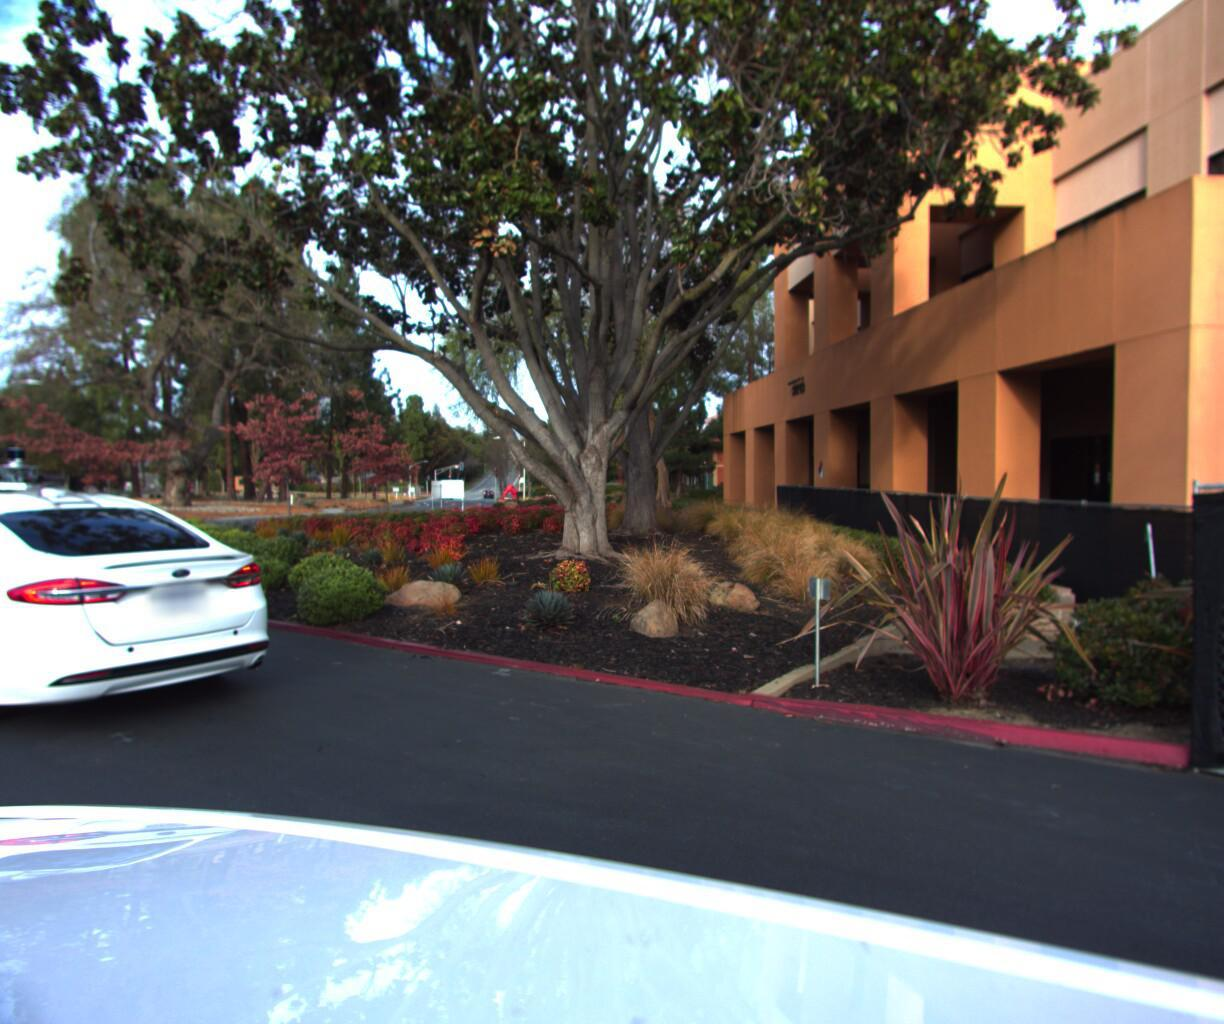car: (0, 439, 311, 766)
